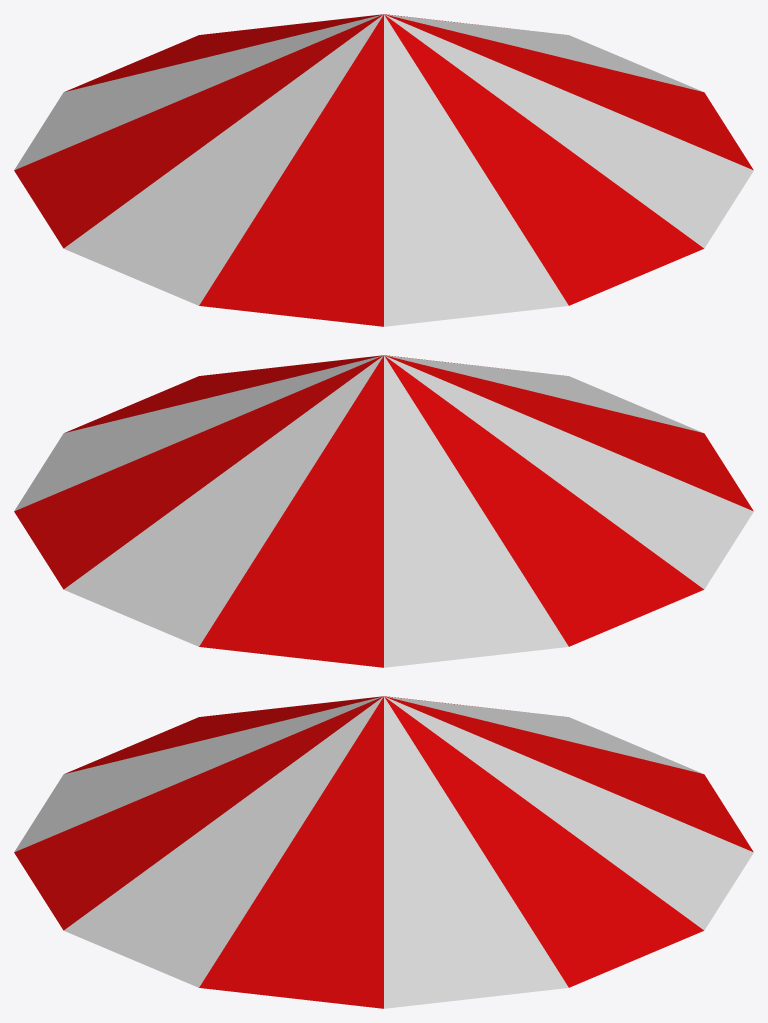
File: cyrcularstallroof.fbx
The picture shows the model from 3 angles, top to bottom: view 1: azimuth 30°, elevation 25°; view 2: azimuth 150°, elevation 25°; view 3: azimuth 270°, elevation 25°; orthographic projection.
Visible parts, largest first — view 1: Cylinder; view 2: Cylinder; view 3: Cylinder.
Boxes of the visible parts, box(x1,y1,x2,y2) form: Cylinder: box(14, 14, 753, 326); Cylinder: box(14, 355, 753, 667); Cylinder: box(14, 696, 753, 1008).
Size of the model in its own units: 1082 by 252 by 1082.
